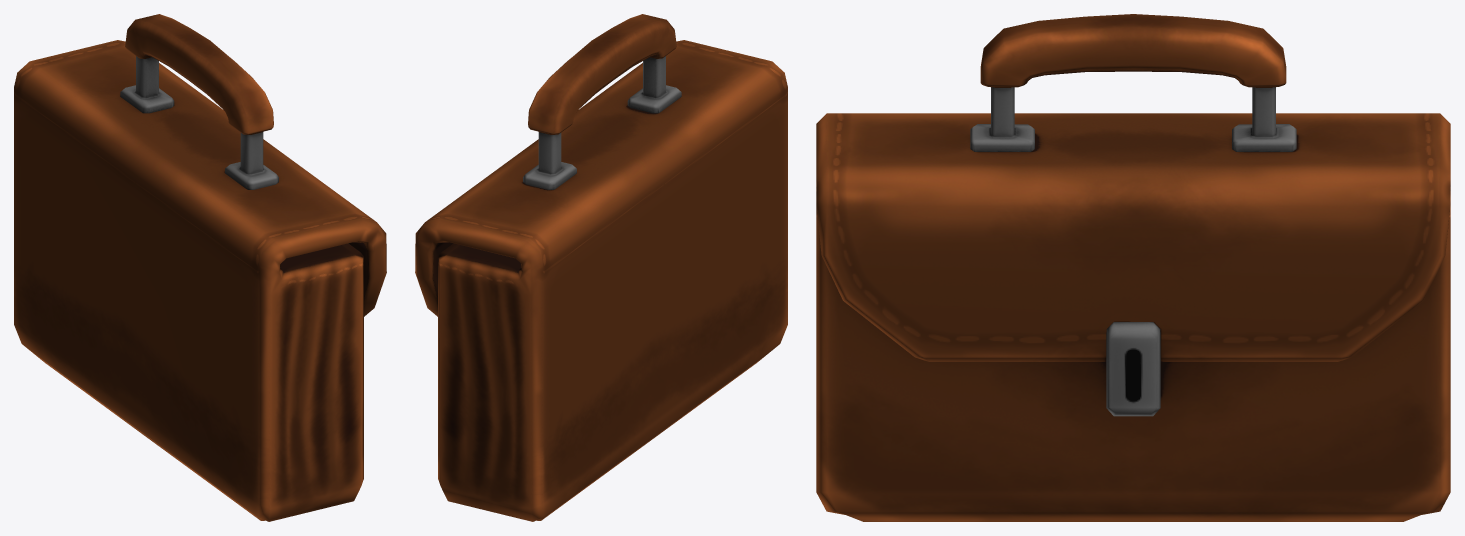
File: Mode_valise_sloop.fbx
The picture shows the model from 3 angles, left to right: view 1: azimuth 30°, elevation 25°; view 2: azimuth 150°, elevation 25°; view 3: azimuth 270°, elevation 25°; orthographic projection. The views are drawn at different scales.
Parts seen in each view (by area): view 1: valise_sloop; view 2: valise_sloop; view 3: valise_sloop.
Boxes of the visible parts, x1,y1,x2,y2 form: valise_sloop: (14,14,386,521); valise_sloop: (415,14,787,521); valise_sloop: (816,14,1450,521).
Bounding box in the file's own units: 8.08 × 22.59 × 26.8.
